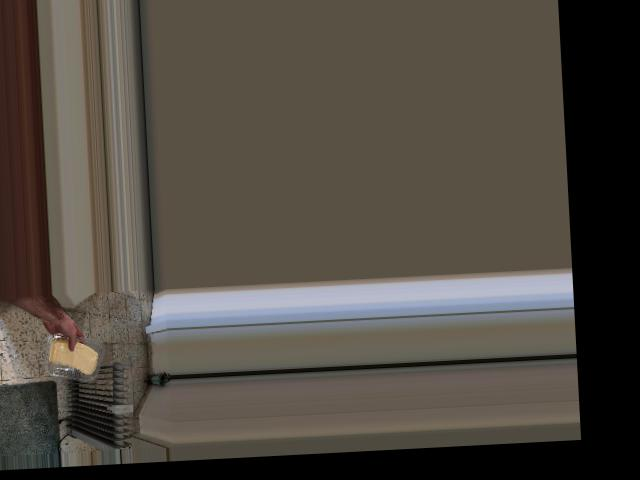cheese: (44, 334, 104, 378)
